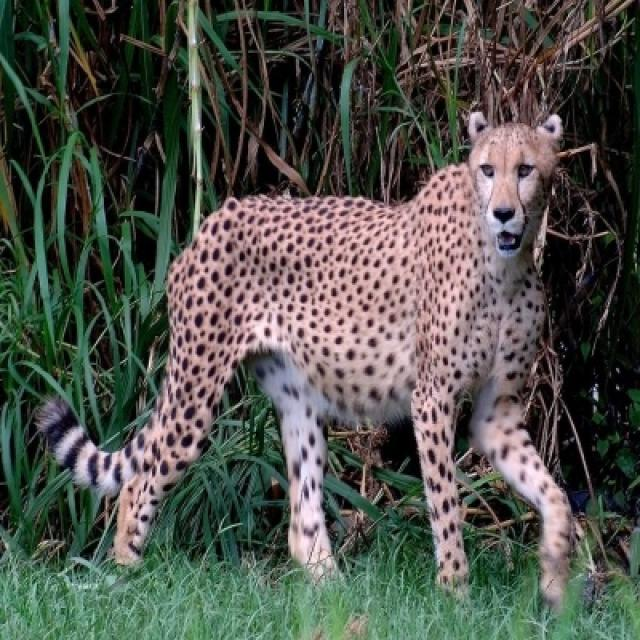Cheetah: (30, 118, 579, 602)
